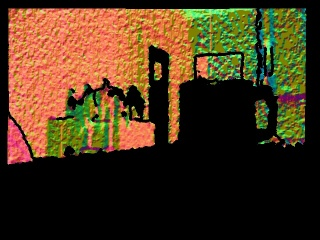station: (80, 117, 116, 154)
